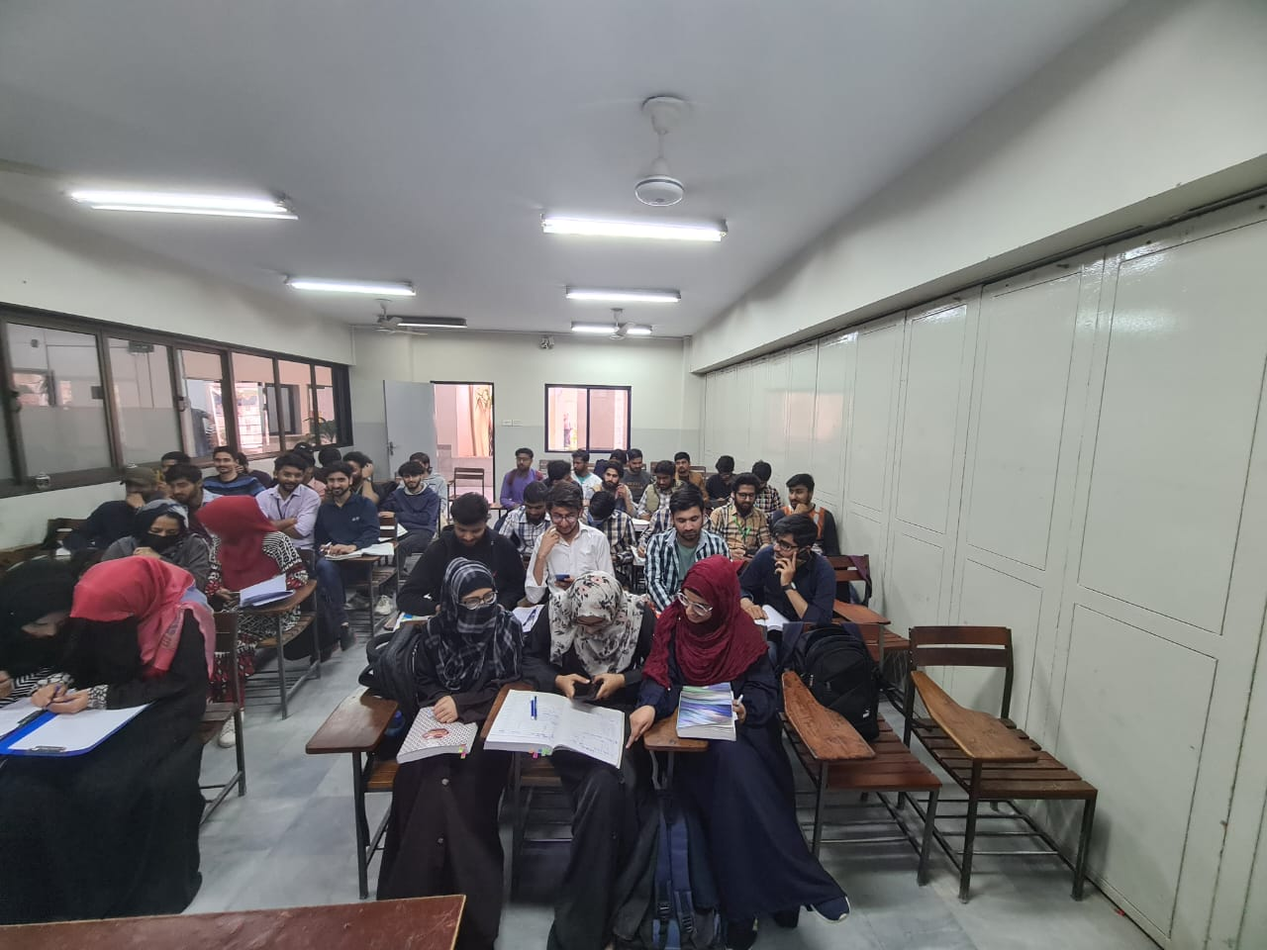non-cheating: (553, 569, 630, 641), (438, 552, 502, 638), (664, 483, 710, 545), (541, 478, 587, 539), (448, 490, 494, 550), (118, 463, 162, 510), (161, 461, 206, 506), (585, 488, 619, 532), (271, 453, 308, 493), (322, 460, 356, 500), (520, 479, 549, 525), (729, 471, 759, 513), (210, 444, 241, 479), (395, 460, 427, 491), (600, 461, 625, 491), (512, 446, 535, 473), (626, 447, 645, 474), (672, 450, 692, 475)
phone: (765, 548, 820, 585), (551, 567, 577, 592)
